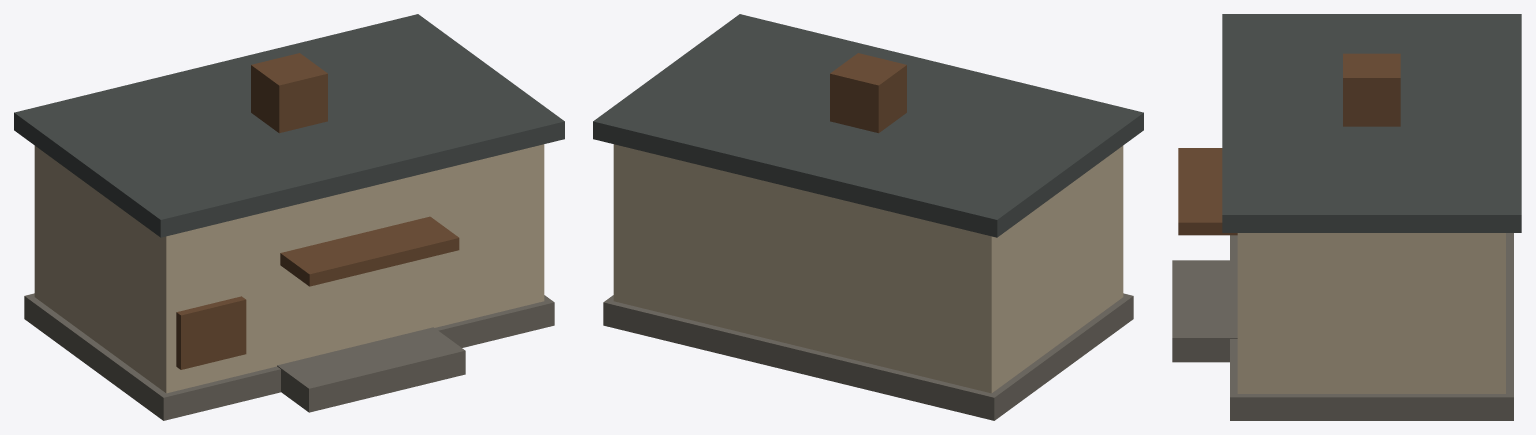
Rendered from community-hall.source.glb.
3 renders of one model, left to right at view 1: azimuth 30°, elevation 25°; view 2: azimuth 150°, elevation 25°; view 3: azimuth 270°, elevation 25°, orthographic.
Parts seen in each view (by area): view 1: community-hall-hall-mesh, community-hall-roof-mesh, community-hall-plinth-mesh, community-hall-steps-mesh, community-hall-entry-canopy-mesh, community-hall-cupola-mesh, community-hall-notice-frame-mesh; view 2: community-hall-hall-mesh, community-hall-roof-mesh, community-hall-plinth-mesh, community-hall-cupola-mesh; view 3: community-hall-roof-mesh, community-hall-hall-mesh, community-hall-plinth-mesh, community-hall-steps-mesh, community-hall-cupola-mesh, community-hall-entry-canopy-mesh.
Part boxes in pixels (bbox=[...]): community-hall-hall-mesh: bbox=[34, 144, 544, 393]; community-hall-roof-mesh: bbox=[14, 14, 564, 237]; community-hall-plinth-mesh: bbox=[24, 293, 554, 420]; community-hall-steps-mesh: bbox=[277, 327, 465, 412]; community-hall-entry-canopy-mesh: bbox=[280, 216, 459, 286]; community-hall-cupola-mesh: bbox=[251, 53, 327, 133]; community-hall-notice-frame-mesh: bbox=[176, 296, 246, 369]; community-hall-hall-mesh: bbox=[613, 144, 1123, 393]; community-hall-roof-mesh: bbox=[593, 14, 1143, 237]; community-hall-plinth-mesh: bbox=[603, 293, 1133, 420]; community-hall-cupola-mesh: bbox=[830, 53, 906, 133]; community-hall-roof-mesh: bbox=[1222, 14, 1521, 232]; community-hall-hall-mesh: bbox=[1237, 233, 1505, 393]; community-hall-plinth-mesh: bbox=[1230, 233, 1513, 420]; community-hall-steps-mesh: bbox=[1172, 260, 1237, 362]; community-hall-cupola-mesh: bbox=[1343, 53, 1400, 126]; community-hall-entry-canopy-mesh: bbox=[1178, 148, 1237, 235].
Bounding box in the file's own units: 6.2 × 3.71 × 4.55.
